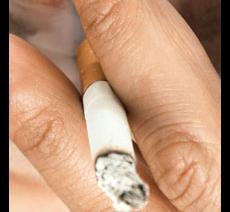Cigarette: (77, 39, 149, 211)
